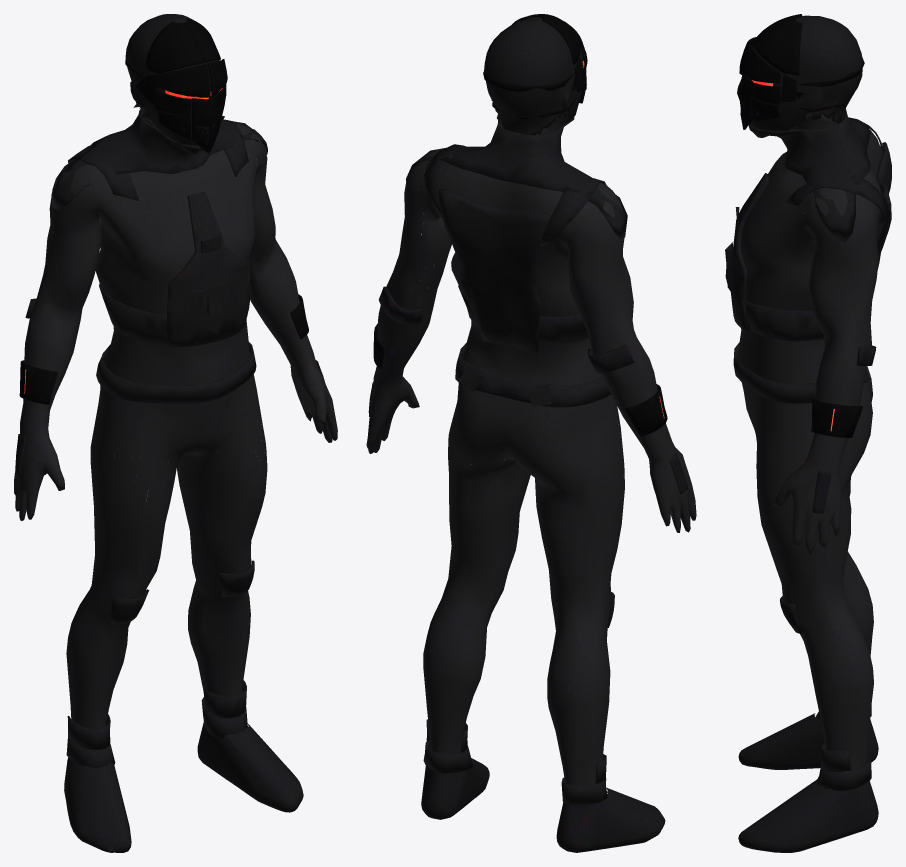
File: roboid.glb
3 views of the same model, side by side, from view 1: azimuth 30°, elevation 25°; view 2: azimuth 150°, elevation 25°; view 3: azimuth 270°, elevation 25° (orthographic). The views are drawn at different scales.
Parts seen in each view (by area): view 1: torso, legR, legL, armL, head, armR; view 2: torso, legL, legR, armL, head, armR; view 3: torso, legR, armR, head, legL.
Boxes of the visible parts, <box> form: torso: <box>67,119,266,502</box>; legR: <box>177,418,303,812</box>; legL: <box>64,439,184,852</box>; armL: <box>14,152,118,520</box>; head: <box>87,14,227,164</box>; armR: <box>234,121,337,442</box>; torso: <box>417,144,623,480</box>; legL: <box>527,428,665,852</box>; legR: <box>421,438,530,819</box>; armL: <box>564,175,696,532</box>; head: <box>443,14,587,190</box>; armR: <box>366,148,459,453</box>; torso: <box>725,118,891,488</box>; legR: <box>738,442,878,852</box>; armR: <box>774,170,878,554</box>; head: <box>737,14,870,181</box>; legL: <box>738,478,878,769</box>.
Size of the model in its own units: 1.25 by 3.03 by 0.5812.
1 material, 1 textured.
